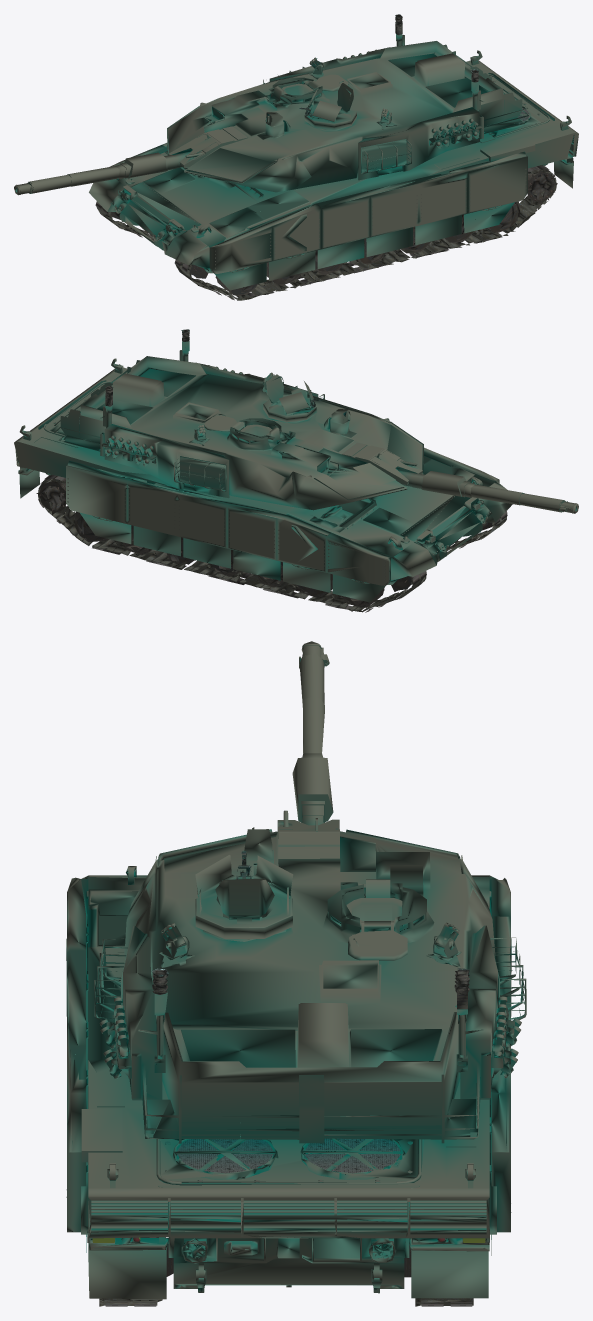
Rendered from leopard2.glb.
The picture shows the model from 3 angles, top to bottom: view 1: azimuth 30°, elevation 25°; view 2: azimuth 150°, elevation 25°; view 3: azimuth 270°, elevation 25°; orthographic projection. The views are drawn at different scales.
Visible parts, largest first — view 1: turret_body, hull_body, skirtL, turret_kit, deck, gun, trackL, roadwL, skirtR, driveL; view 2: turret_body, skirtR, hull_body, turret_kit, gun, trackR, deck, skirtL, roadwR, driveR, trackL; view 3: turret_body, hull_body, deck, turret_kit, skirtL, skirtR, gun.
Part boxes in pixels (x1=…): turret_body: x1=167, y1=41, x2=528, y2=192; hull_body: x1=89, y1=136, x2=578, y2=290; skirtL: x1=126, y1=81, x2=552, y2=273; turret_kit: x1=204, y1=14, x2=483, y2=174; deck: x1=416, y1=50, x2=578, y2=175; gun: x1=14, y1=126, x2=247, y2=195; trackL: x1=174, y1=165, x2=556, y2=300; roadwL: x1=215, y1=201, x2=519, y2=296; skirtR: x1=107, y1=73, x2=515, y2=242; driveL: x1=189, y1=170, x2=557, y2=278; turret_body: x1=54, y1=356, x2=423, y2=510; skirtR: x1=38, y1=408, x2=480, y2=585; hull_body: x1=15, y1=442, x2=512, y2=602; turret_kit: x1=100, y1=329, x2=350, y2=491; gun: x1=341, y1=442, x2=578, y2=513; trackR: x1=38, y1=474, x2=426, y2=612; deck: x1=14, y1=358, x2=166, y2=485; skirtL: x1=48, y1=380, x2=499, y2=558; roadwR: x1=74, y1=511, x2=384, y2=607; driveR: x1=36, y1=481, x2=411, y2=591; trackL: x1=447, y1=511, x2=507, y2=551; turret_body: x1=123, y1=829, x2=497, y2=1143; hull_body: x1=81, y1=866, x2=496, y2=1299; deck: x1=81, y1=1060, x2=489, y2=1215; turret_kit: x1=94, y1=827, x2=526, y2=1078; skirtL: x1=66, y1=877, x2=346, y2=1232; skirtR: x1=195, y1=878, x2=511, y2=1232; gun: x1=277, y1=641, x2=339, y2=858.
Size of the model in its own units: 12.74 by 3.83 by 5.01.
13 materials, 9 textured.
